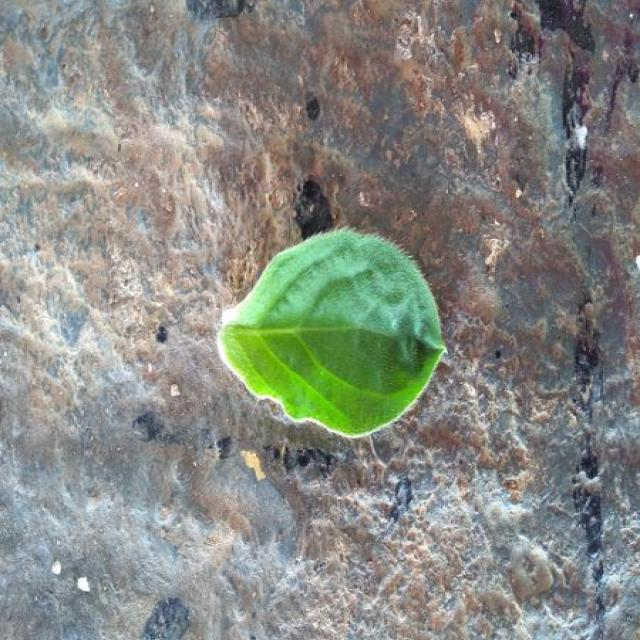globe amarnath: (218, 229, 445, 437)
